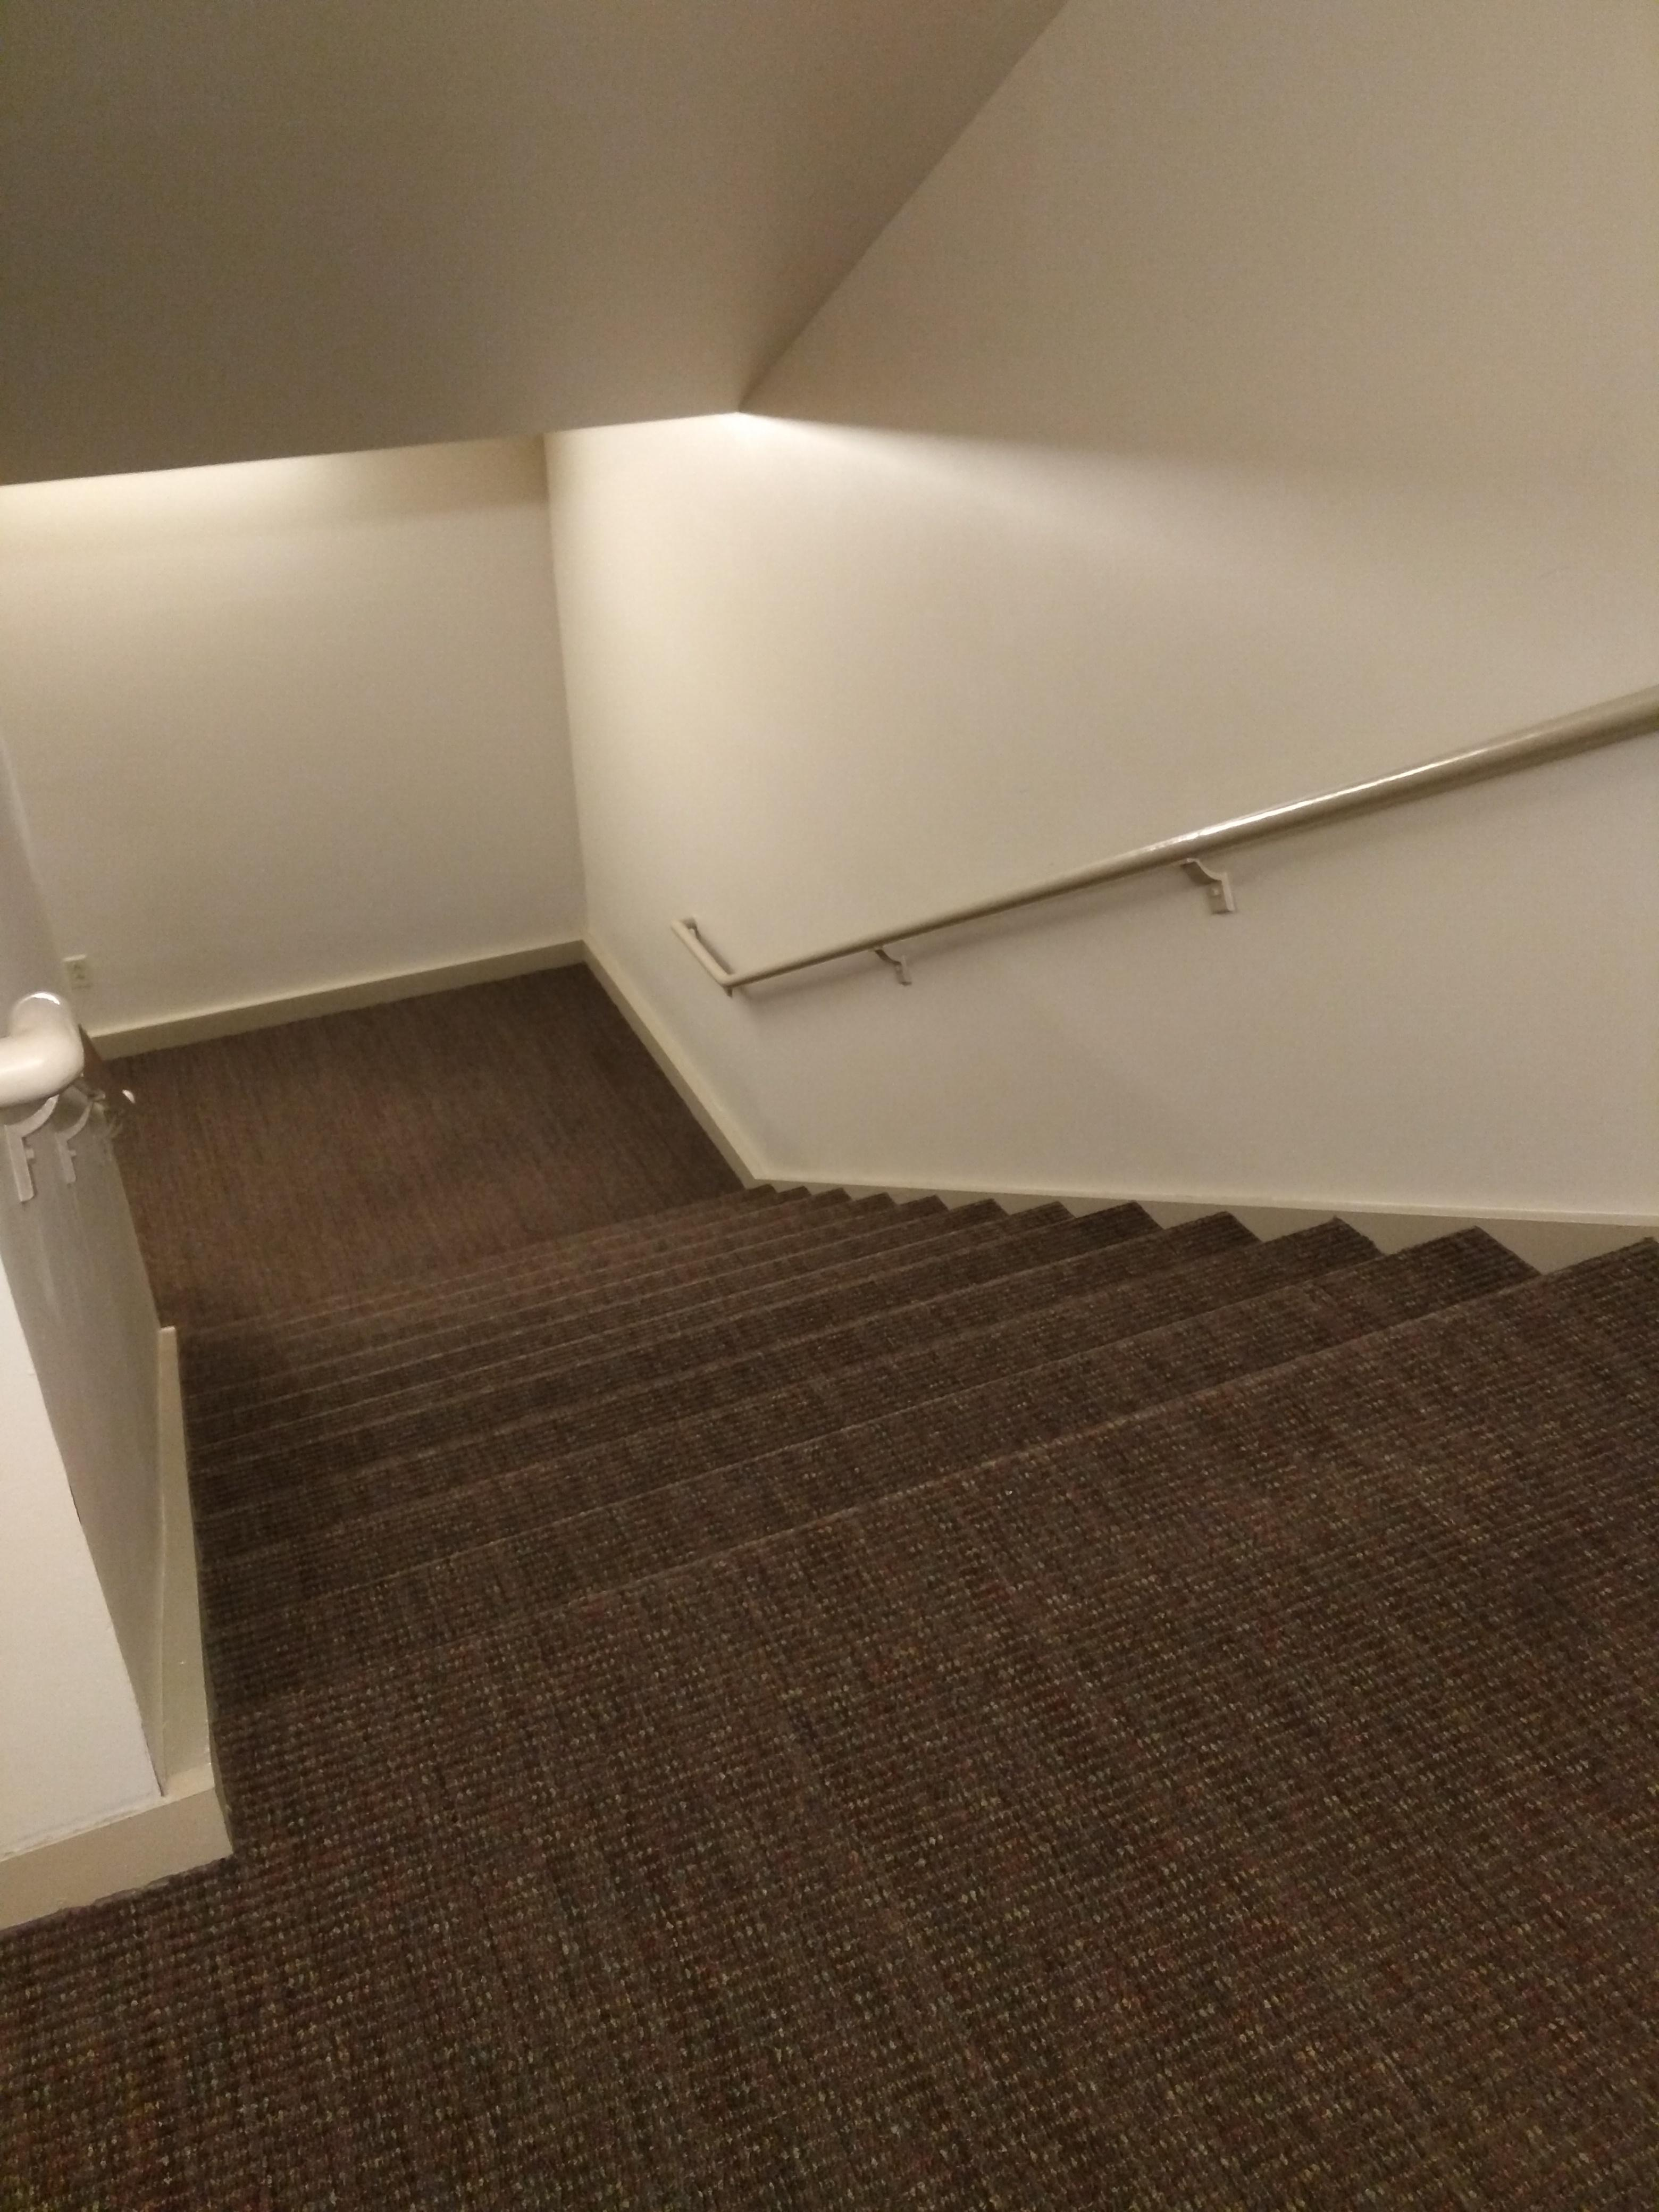stairs_down: (106, 1109, 1659, 1782)
